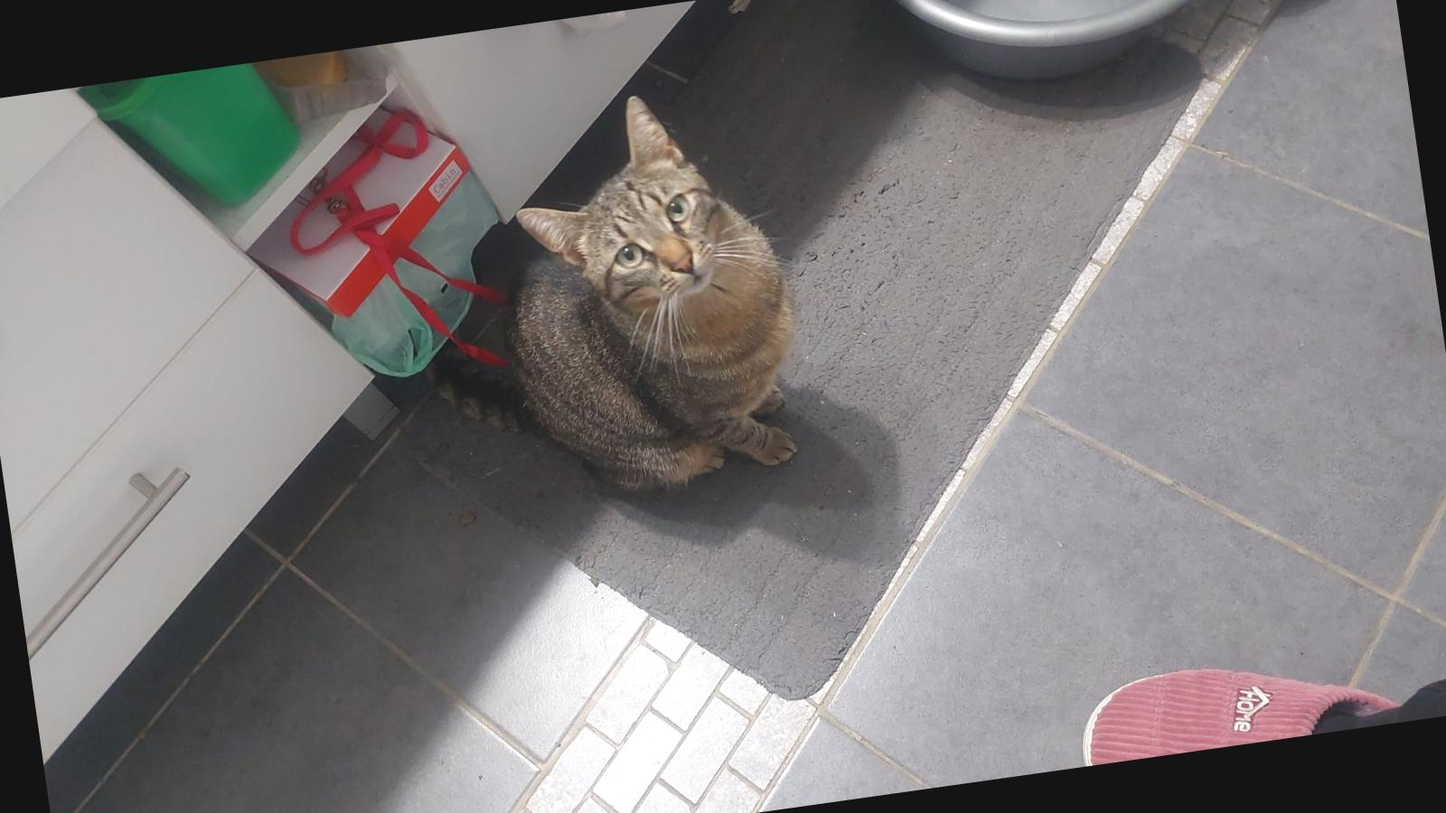macka: (373, 73, 810, 526)
